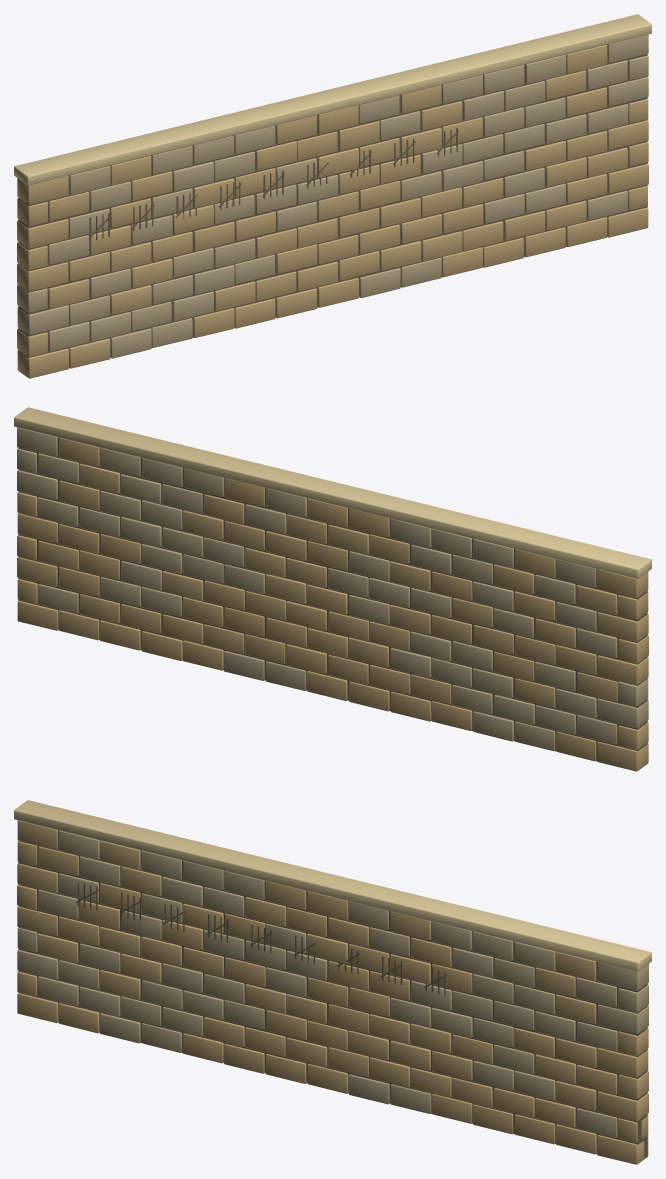
File: wall.glb
3 renders of one model, top to bottom at view 1: azimuth 30°, elevation 25°; view 2: azimuth 150°, elevation 25°; view 3: azimuth 330°, elevation 25°, orthographic.
Parts seen in each view (by area): view 1: wall_cap, wall_core, wall_b2, wall_b0, wall_b6, wall_b4, wall_b8, wall_b0.002, wall_b0.001, wall_b4.002, wall_b2.002, wall_b3.003 (+125 smaller); view 2: wall_cap, wall_core, wall_b4, wall_b6, wall_b2, wall_b0, wall_b8, wall_b6.005, wall_b5.012, wall_b2.003, wall_b4.007, wall_b6.010 (+125 smaller); view 3: wall_cap, wall_core, wall_b2.014, wall_b4.014, wall_b6.014, wall_b0.014, wall_b8.014, wall_b0.002, wall_b3.001, wall_b3.003, wall_b4.002, wall_b4.010 (+125 smaller).
Part boxes in pixels (x1=…): wall_cap: x1=14, y1=14, x2=651, y2=185; wall_core: x1=18, y1=44, x2=647, y2=377; wall_b2: x1=17, y1=305, x2=68, y2=335; wall_b0: x1=17, y1=348, x2=68, y2=378; wall_b6: x1=17, y1=219, x2=68, y2=248; wall_b4: x1=17, y1=262, x2=68, y2=291; wall_b8: x1=17, y1=176, x2=68, y2=205; wall_b0.002: x1=110, y1=328, x2=151, y2=358; wall_b0.001: x1=69, y1=338, x2=110, y2=368; wall_b4.002: x1=110, y1=242, x2=151, y2=272; wall_b2.002: x1=110, y1=285, x2=151, y2=315; wall_b3.003: x1=131, y1=258, x2=172, y2=288; wall_cap: x1=14, y1=407, x2=651, y2=578; wall_core: x1=18, y1=437, x2=647, y2=770; wall_b4: x1=597, y1=655, x2=648, y2=685; wall_b6: x1=597, y1=612, x2=648, y2=642; wall_b2: x1=597, y1=698, x2=648, y2=728; wall_b0: x1=597, y1=741, x2=648, y2=771; wall_b8: x1=597, y1=569, x2=648, y2=598; wall_b6.005: x1=389, y1=561, x2=430, y2=591; wall_b5.012: x1=120, y1=517, x2=161, y2=546; wall_b2.003: x1=472, y1=668, x2=513, y2=698; wall_b4.007: x1=306, y1=584, x2=347, y2=614; wall_b6.010: x1=182, y1=510, x2=223, y2=540; wall_cap: x1=14, y1=800, x2=651, y2=971; wall_core: x1=18, y1=830, x2=647, y2=1158; wall_b2.014: x1=597, y1=1091, x2=648, y2=1121; wall_b4.014: x1=597, y1=1047, x2=648, y2=1077; wall_b6.014: x1=597, y1=1004, x2=648, y2=1034; wall_b0.014: x1=597, y1=1135, x2=648, y2=1164; wall_b8.014: x1=597, y1=962, x2=648, y2=990; wall_b0.002: x1=99, y1=1013, x2=140, y2=1043; wall_b3.001: x1=37, y1=933, x2=78, y2=963; wall_b3.003: x1=120, y1=953, x2=161, y2=983; wall_b4.002: x1=99, y1=926, x2=140, y2=956; wall_b4.010: x1=431, y1=1007, x2=472, y2=1037.
Bounding box in the file's own units: 6.03 × 1.89 × 0.24.
